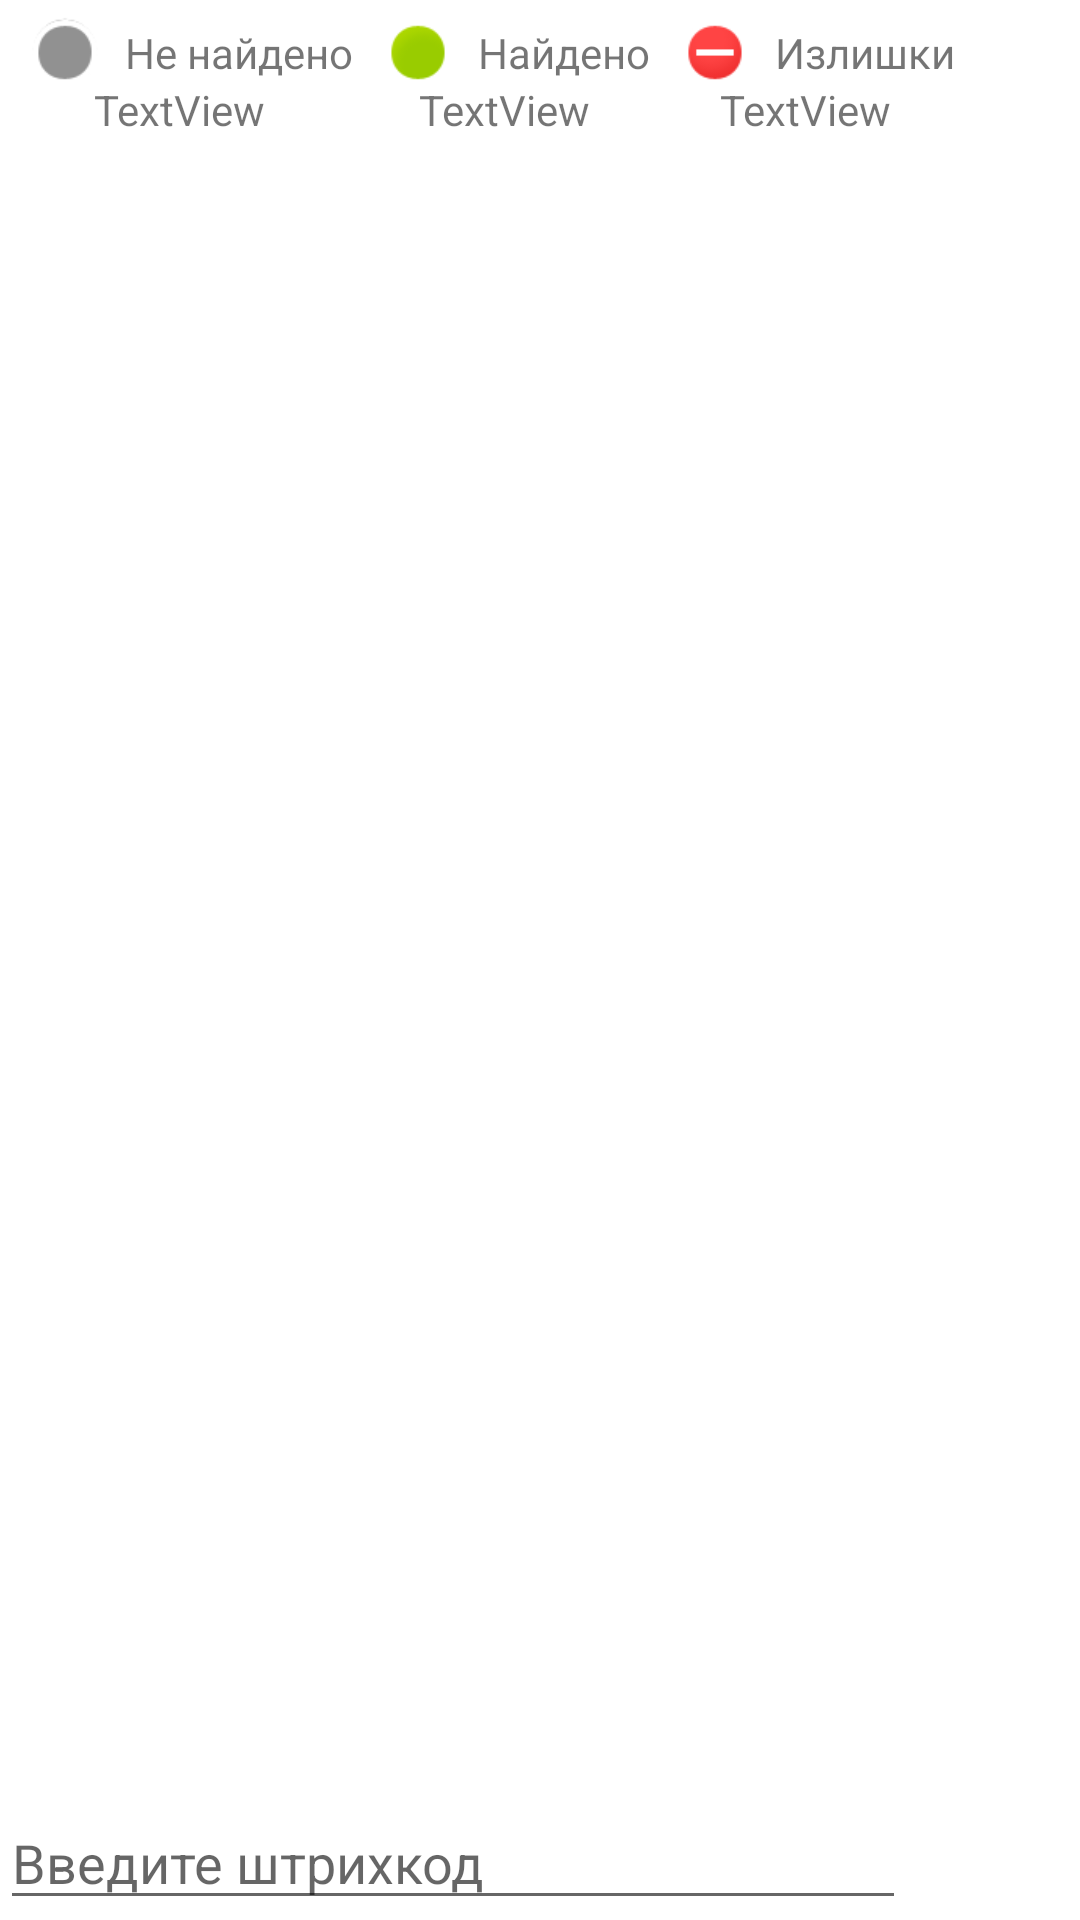

Icon click points for this 1080px x 1920px phone screenshot, format [x,y]:
presence busy: [715,52]
presence invisible: [65,49]
presence online: [418,52]
